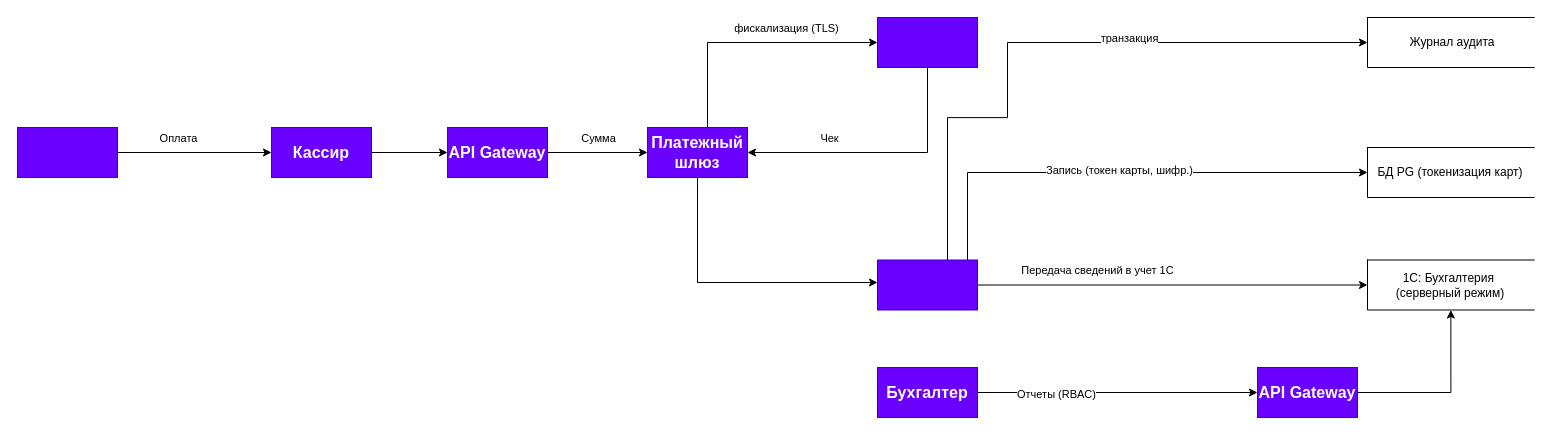
The diagram is 1552 pixels wide and 435 high, and some of its shapes have lost their labels. Here are the shapes that lost their labels. From the top down, the centre of each, then its label:
At point (927, 42): "ККМ".
At point (67, 152): "Пациент".
At point (927, 284): "Сервис оплаты".
